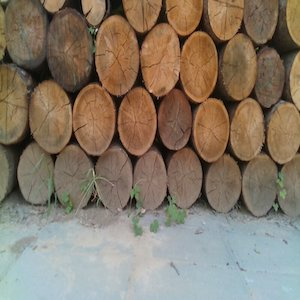combustible: (10, 3, 294, 207)
